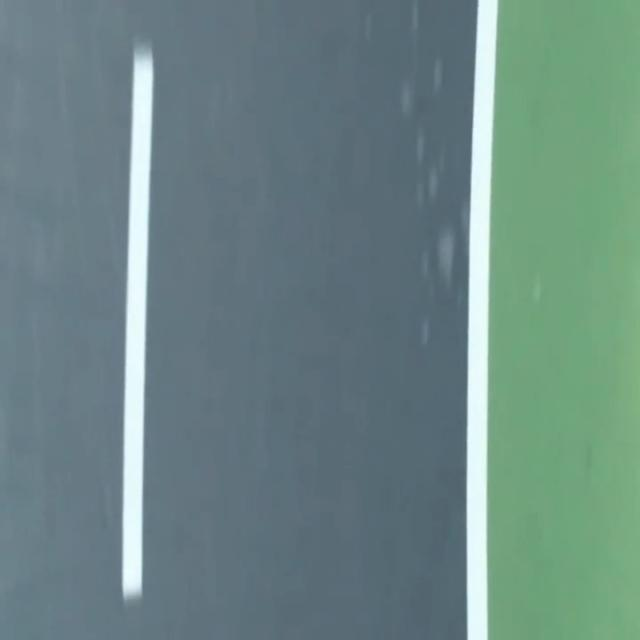center: (122, 45, 153, 600)
right: (467, 0, 497, 639)
